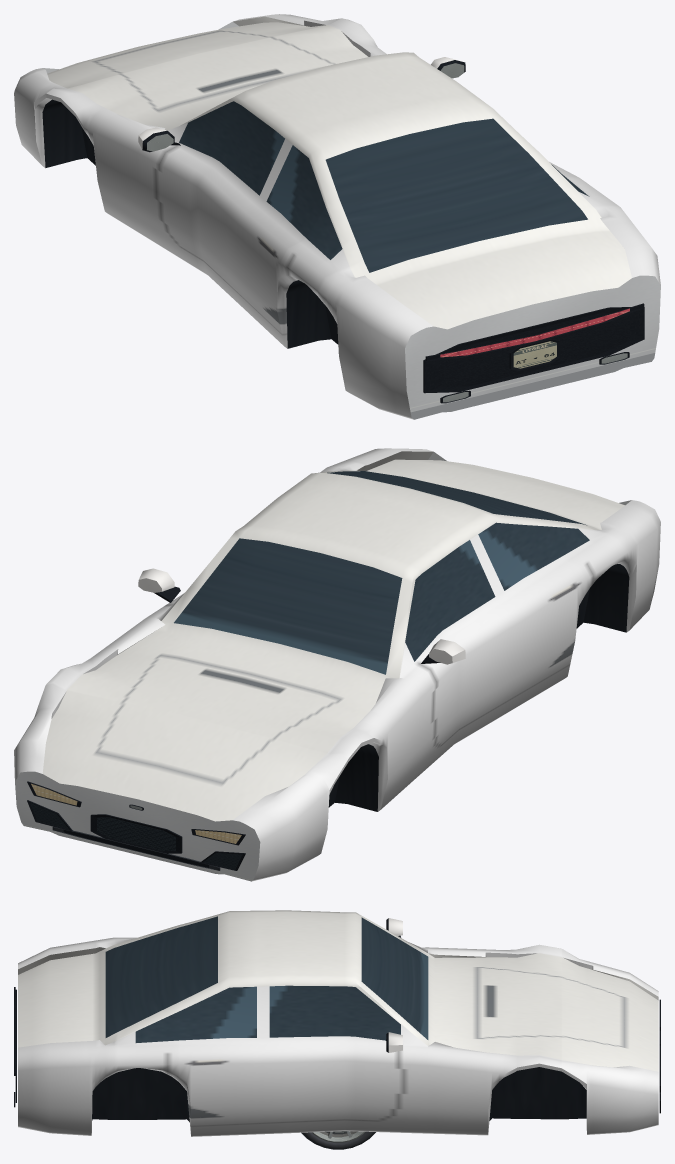
The model's file is vektor_v8.glb.
3 views of the same model, one above another, from view 1: azimuth 30°, elevation 25°; view 2: azimuth 150°, elevation 25°; view 3: azimuth 270°, elevation 25° (orthographic). The views are drawn at different scales.
Visible parts, largest first — view 1: Carroceria_vektor_v8; view 2: Carroceria_vektor_v8; view 3: Carroceria_vektor_v8, Roda_vektor_v8.
Boxes of the visible parts, x1,y1,x2,y2 form: Carroceria_vektor_v8: (14,14,660,419); Carroceria_vektor_v8: (14,448,660,881); Carroceria_vektor_v8: (14,910,660,1136); Roda_vektor_v8: (301,1131,375,1149).
Size of the model in its own units: 2.12 by 1.59 by 4.54.
6 materials, 6 textured.
